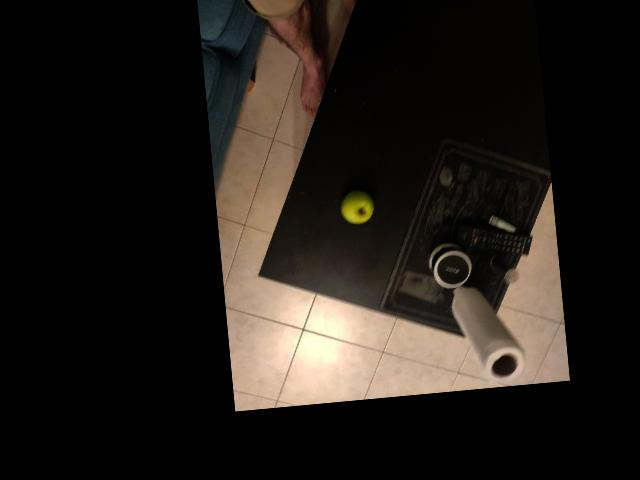apple: (329, 230, 385, 279)
